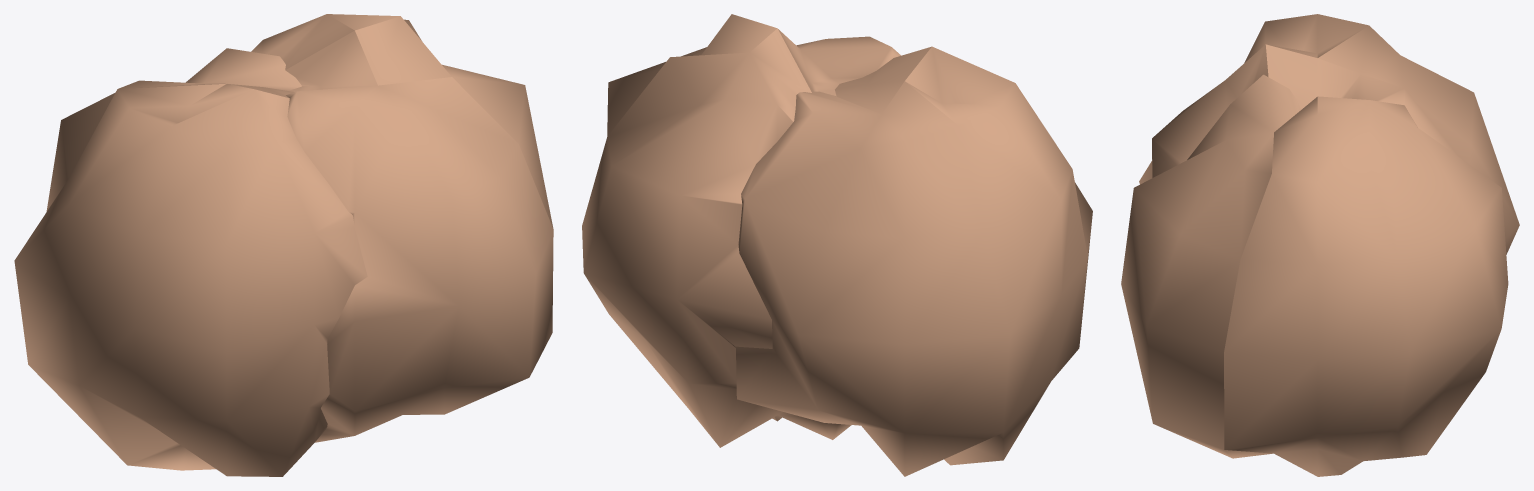
Rendered from rock_006.fbx.
3 renders of one model, left to right at view 1: azimuth 30°, elevation 25°; view 2: azimuth 150°, elevation 25°; view 3: azimuth 270°, elevation 25°, orthographic. The views are drawn at different scales.
Parts seen in each view (by area): view 1: Rock4; view 2: Rock4; view 3: Rock4.
Part boxes in pixels (bbox=[...]): Rock4: bbox=[14, 14, 553, 476]; Rock4: bbox=[582, 14, 1092, 476]; Rock4: bbox=[1121, 14, 1519, 476].
Bounding box in the file's own units: 3.84 × 3.22 × 3.07.
